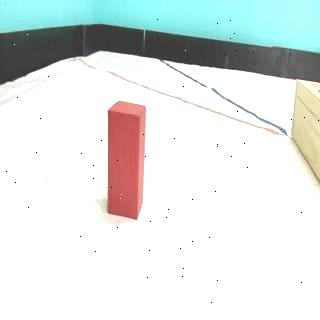redbox: (108, 100, 146, 220)
